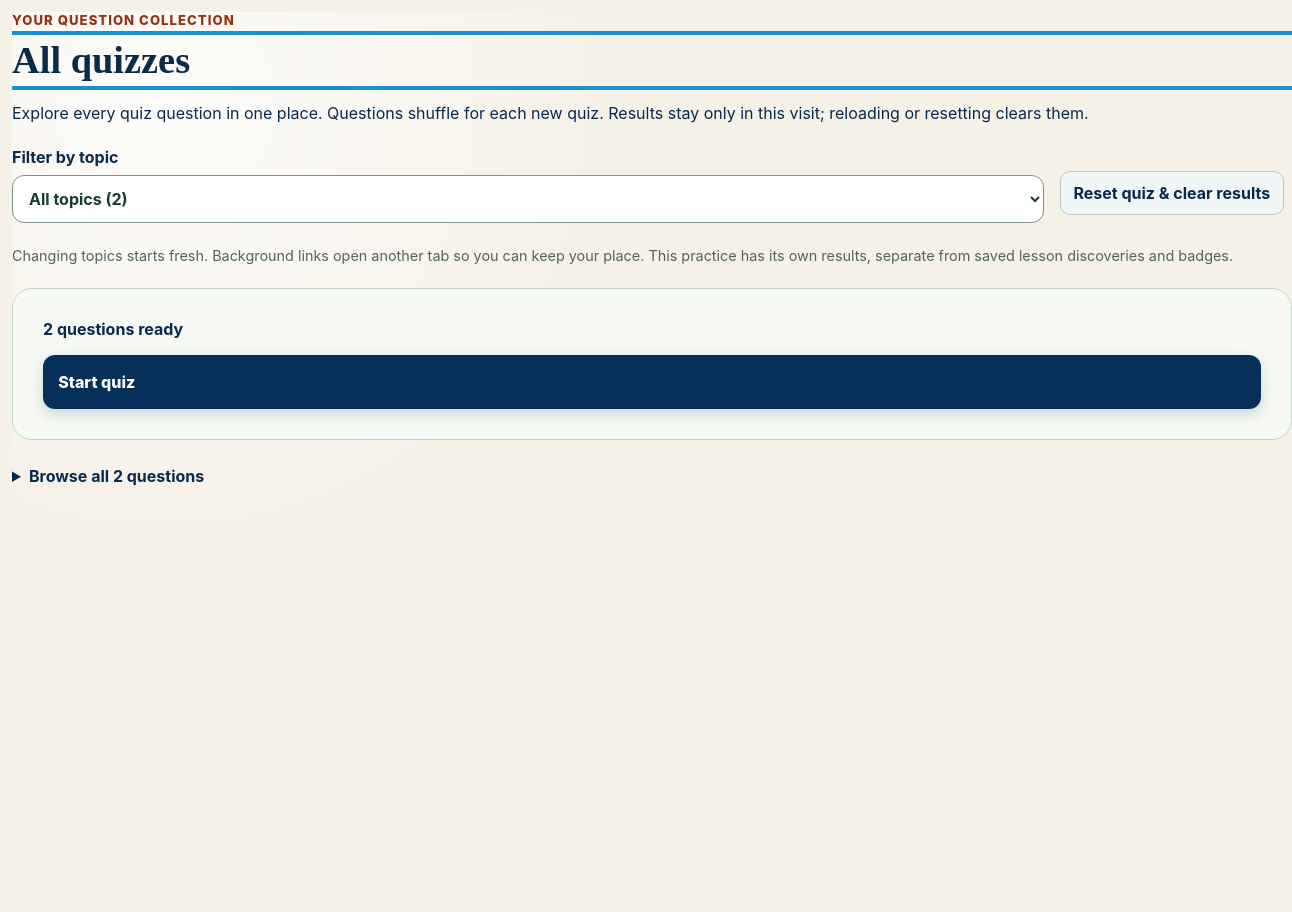
Test case: all quizzes › filters the directory and quiz, and clears an active attempt on topic change
The width and height of the screenshot is (1292, 912).
Select "Rivers (1)" in the dropdown labelled "Filter by topic" at (528, 199), box [12,175,1044,223]
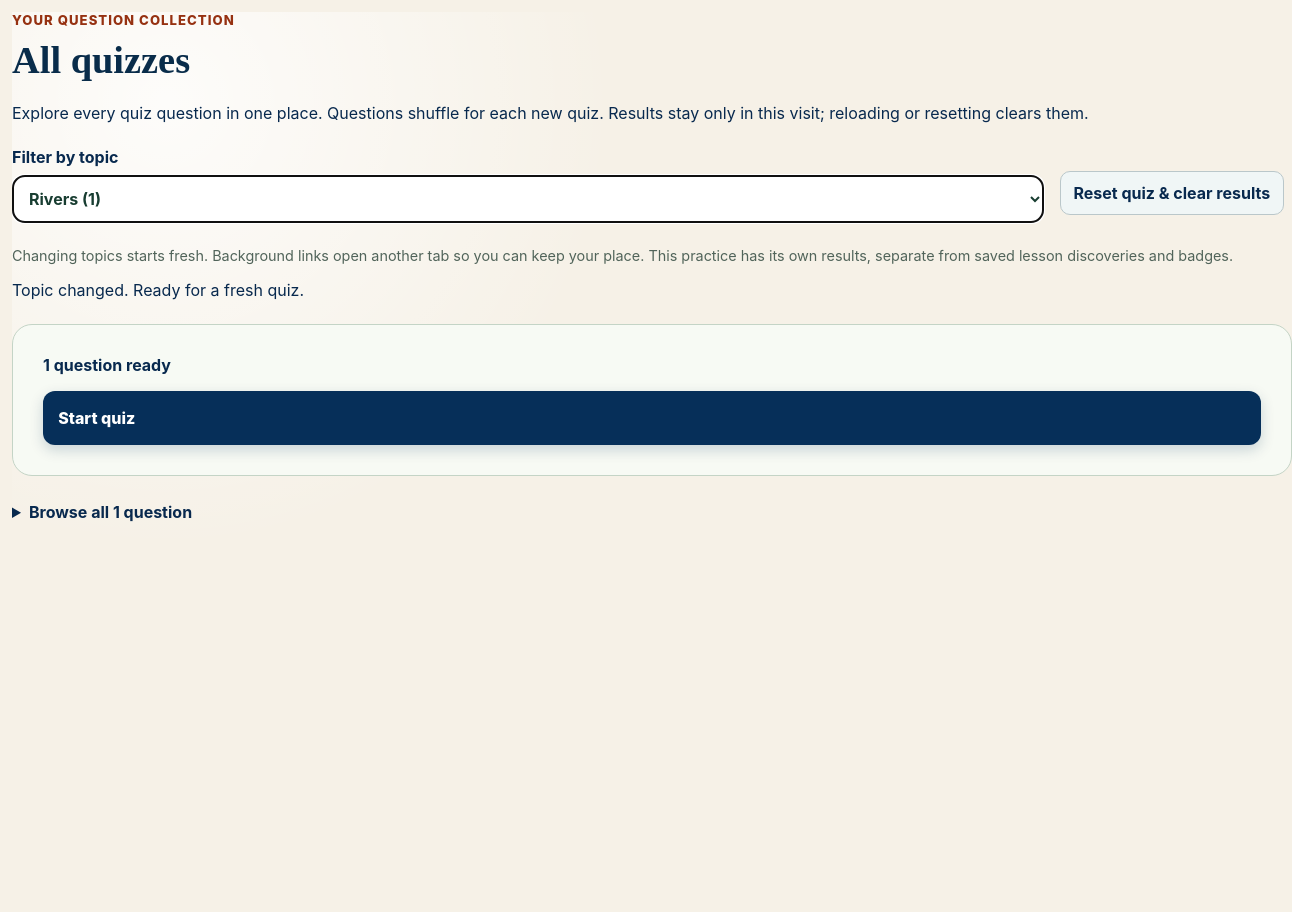
Result: the text "1 question ready" is shown at [43,355,171,375]
Click the heading "Browse all 1 question" at (110, 512), box [29,502,192,522]
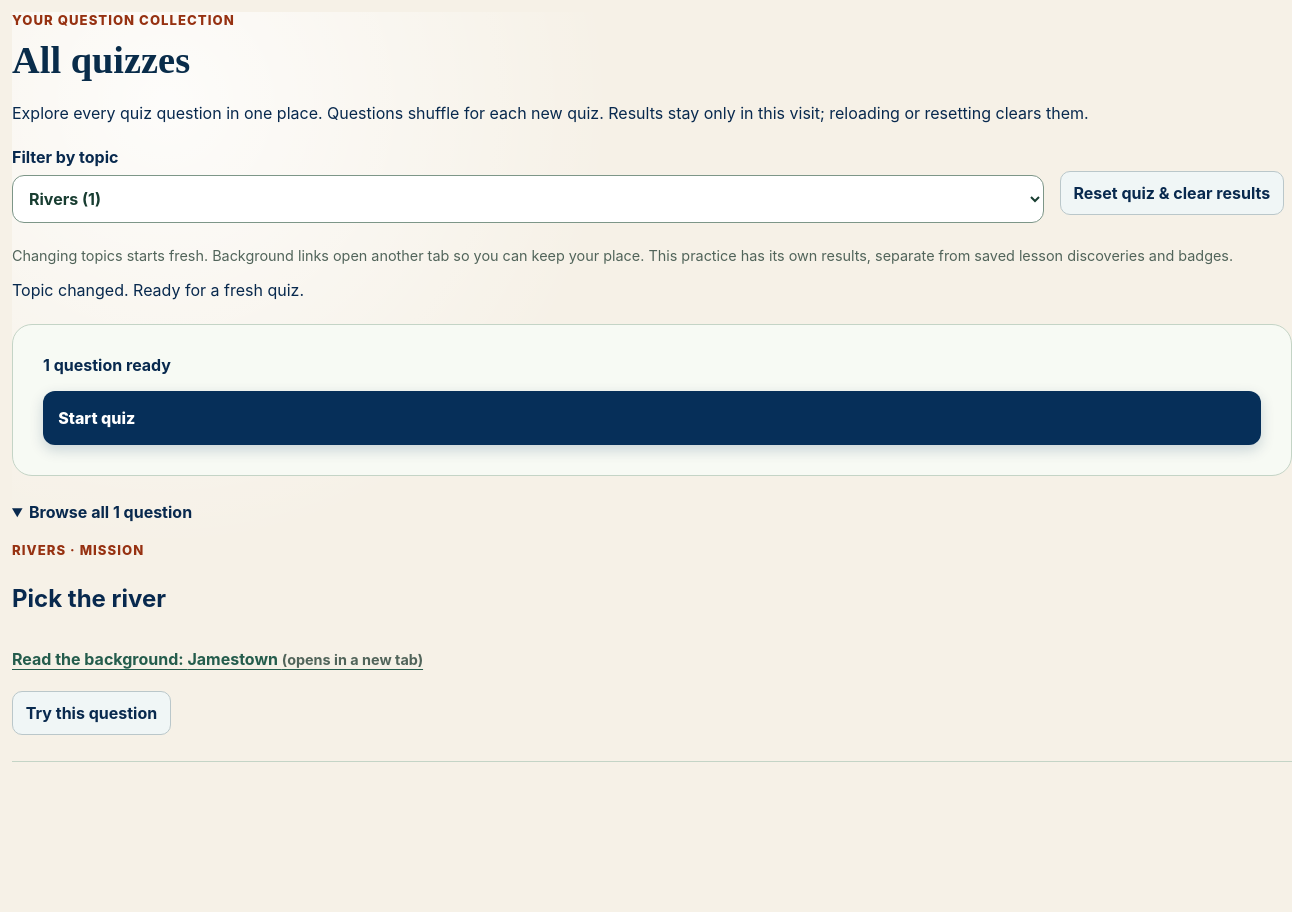
Expected: the heading "Pick the rock" is not shown
Result: the heading "Pick the river" is shown at [12,584,166,613]
Click the button "Start quiz" at (97, 418), box [43,391,1261,445]
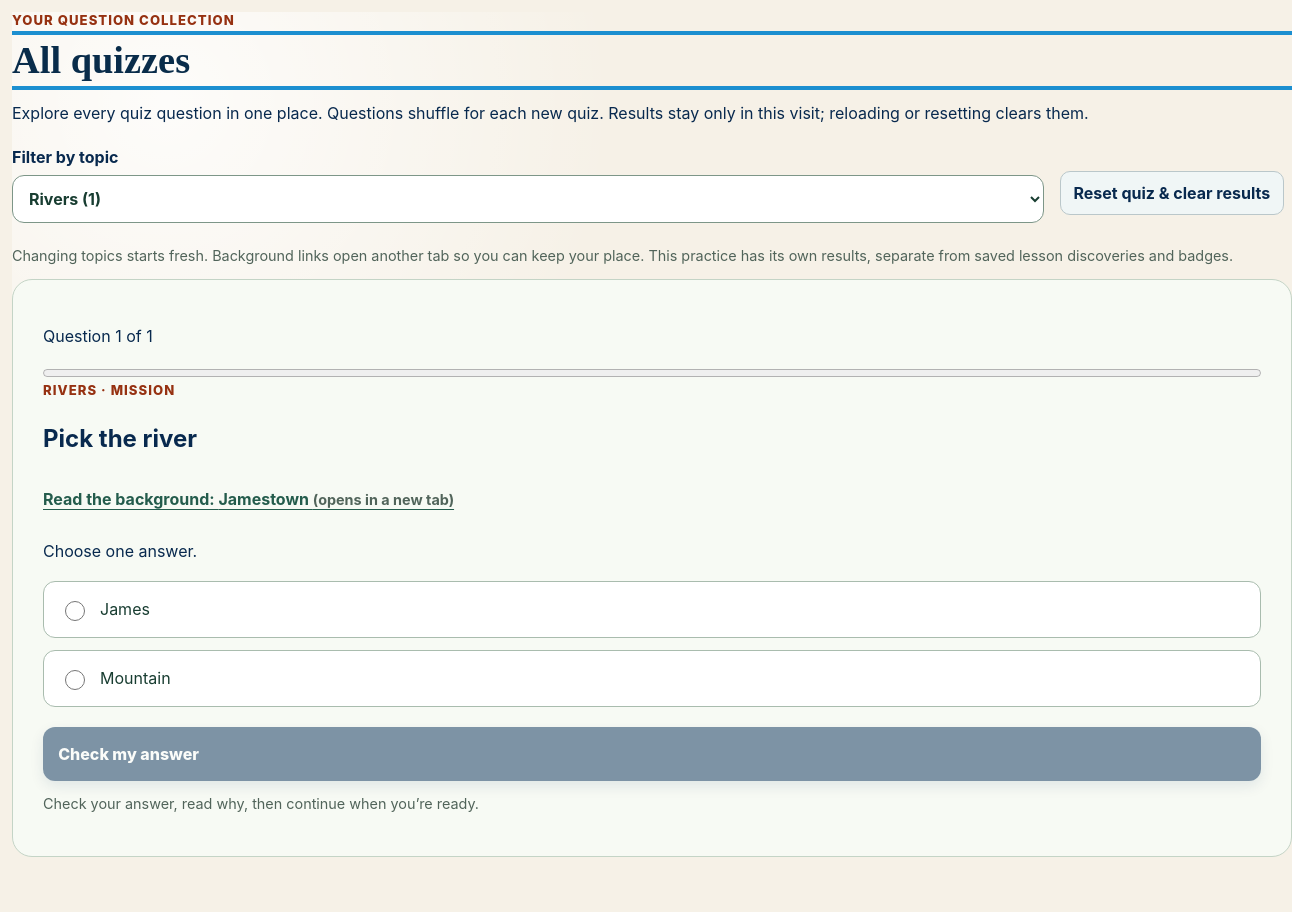
Click the radio button labelled "James" at (75, 610), box [65,600,85,620]
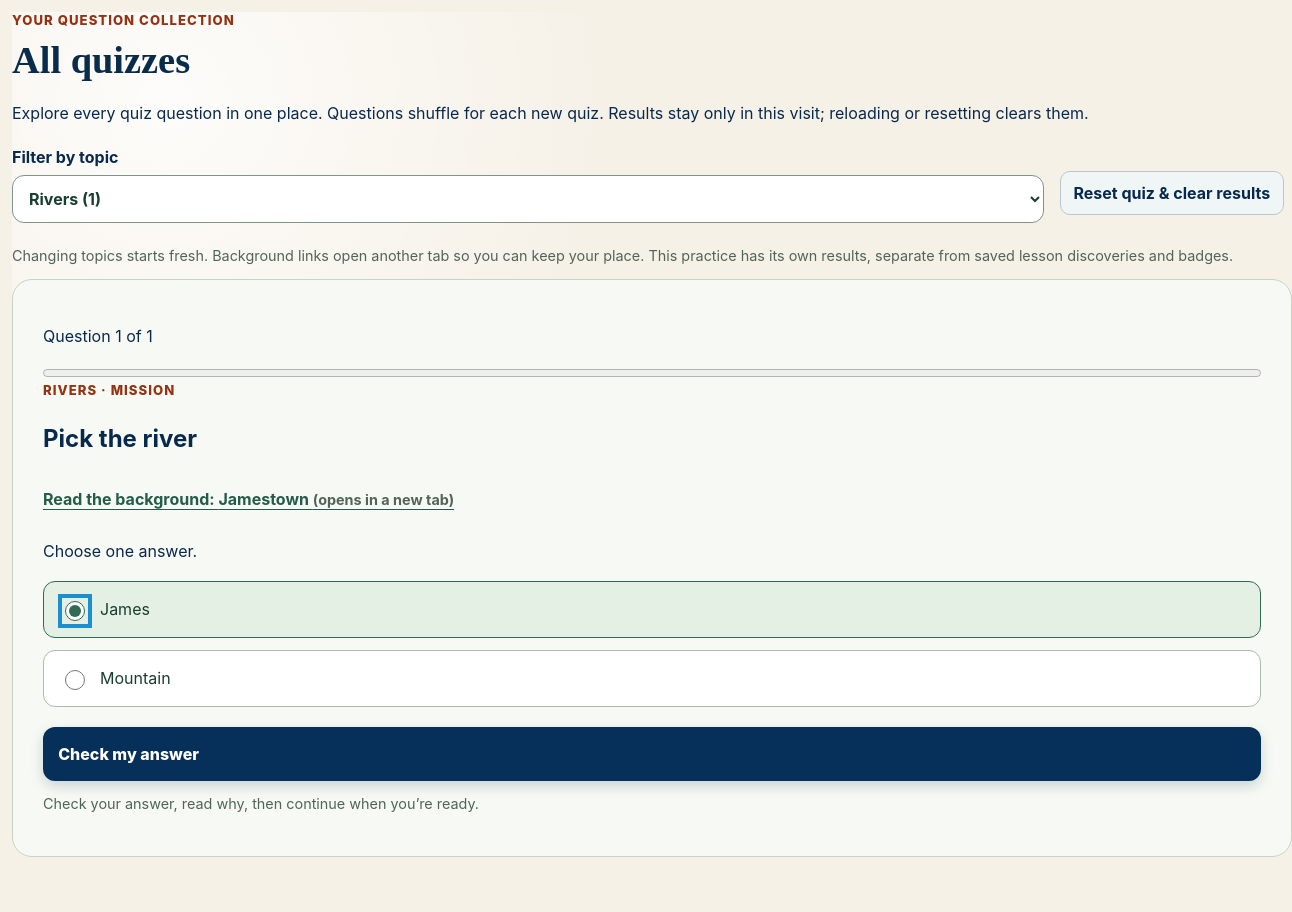
Select "Rocks (1)" in the dropdown labelled "Filter by topic" at (528, 199), box [12,175,1044,223]
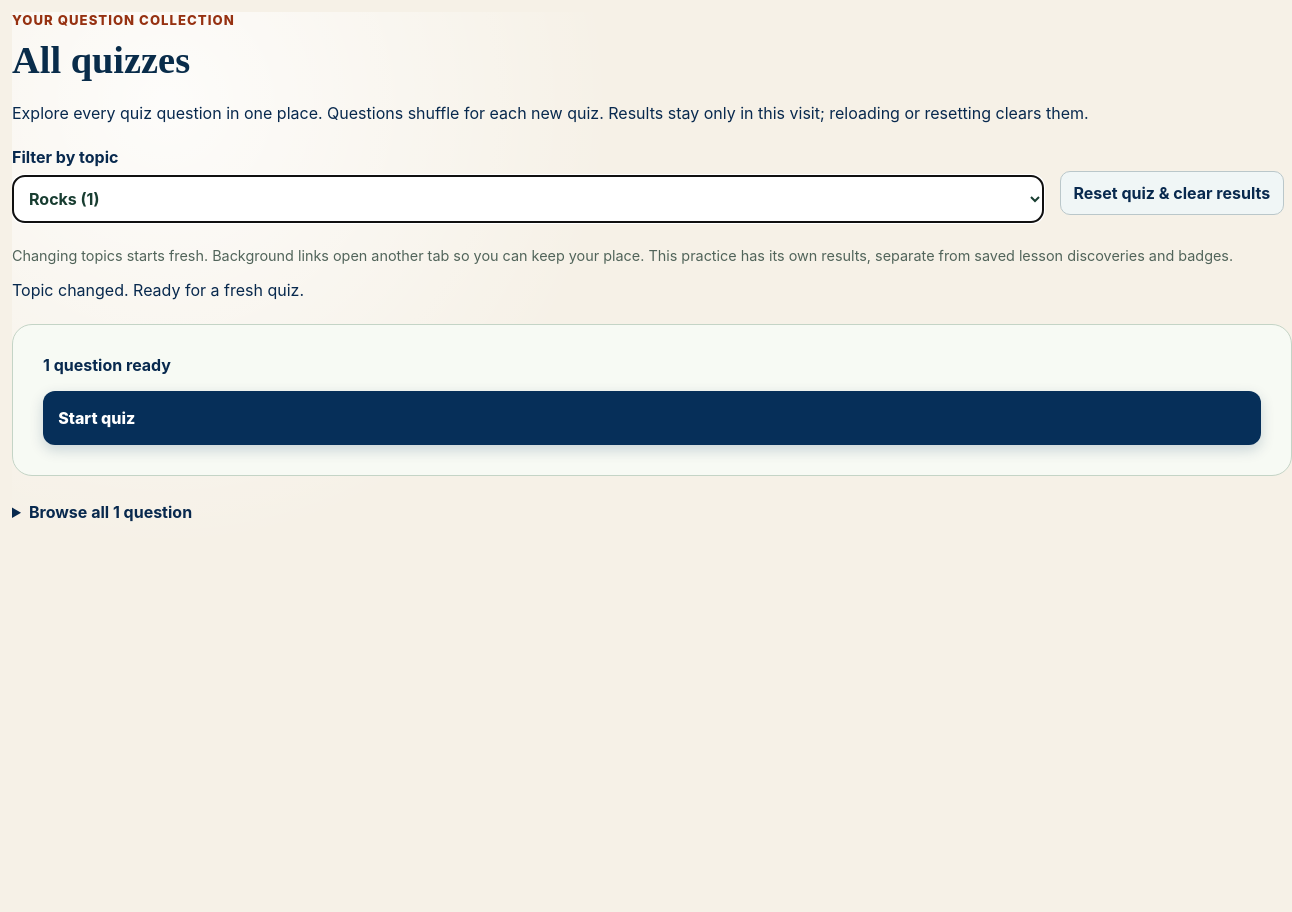
Click the button "Start quiz" at (97, 418), box [43,391,1261,445]
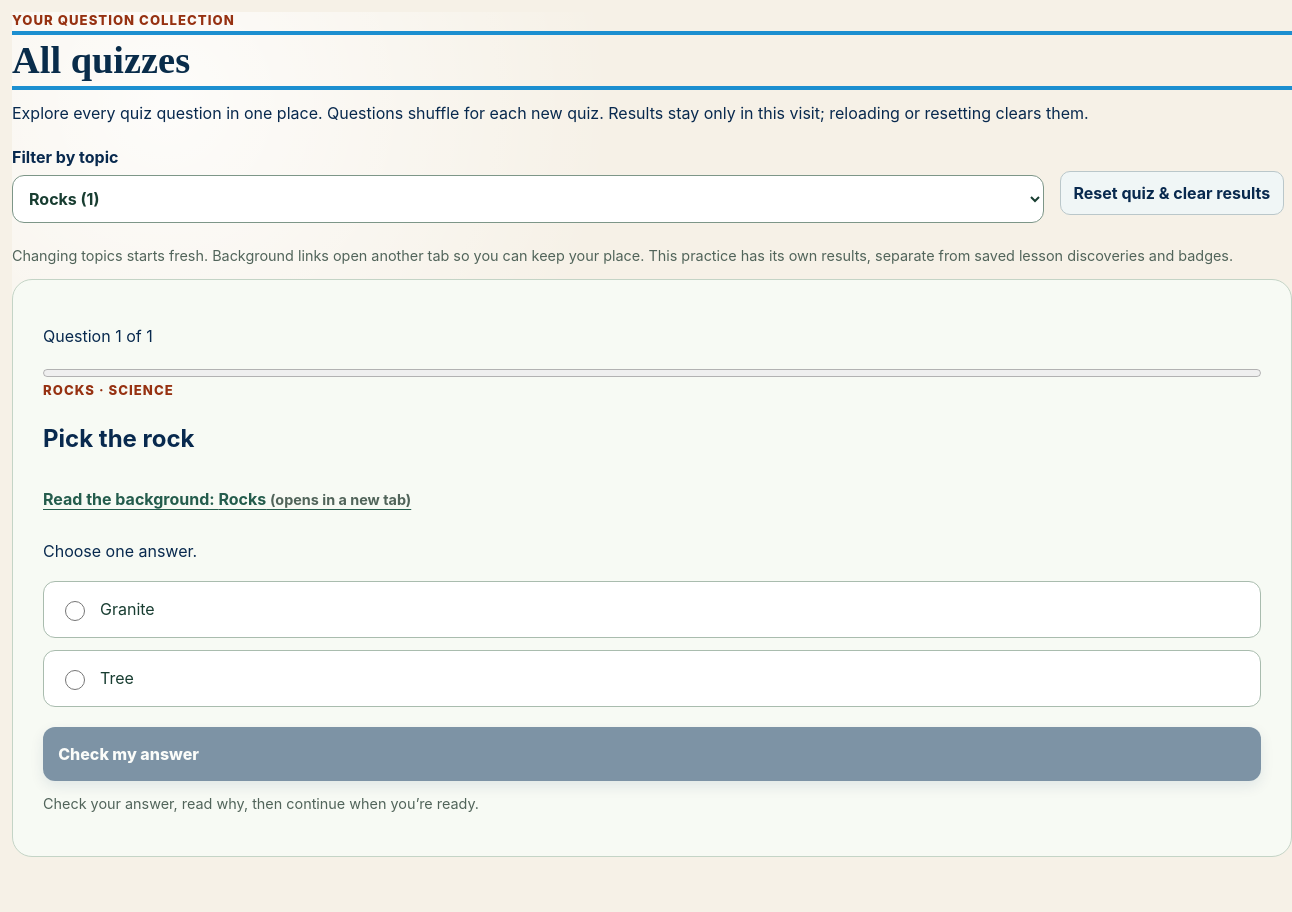
Result: the heading "Pick the rock" is shown at [43,424,194,453]
Result: the button "Check my answer" is disabled at [43,726,1261,780]
